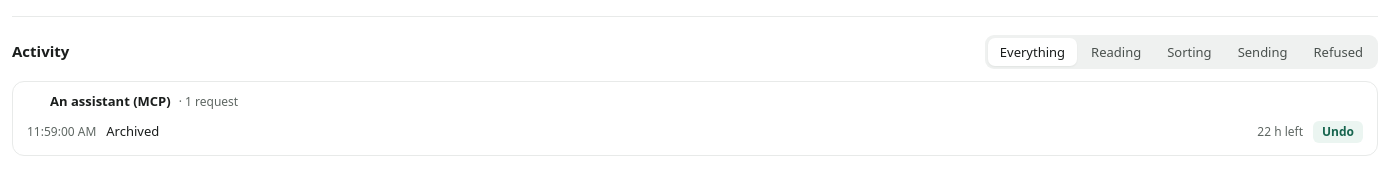
it: undoing from the row › says Undone once something was set back
What coordinates should you click on to do the following:
click the button "Undo"
I would click on:
 (1338, 132)
Its box is [1313,121,1363,143].
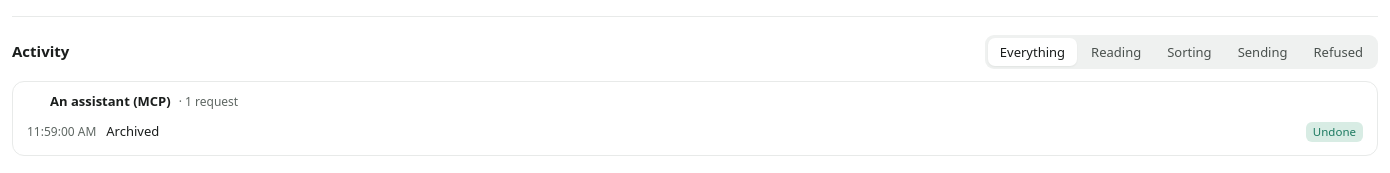
Expected: the text "Undone" is shown, [1306,122,1363,142]
